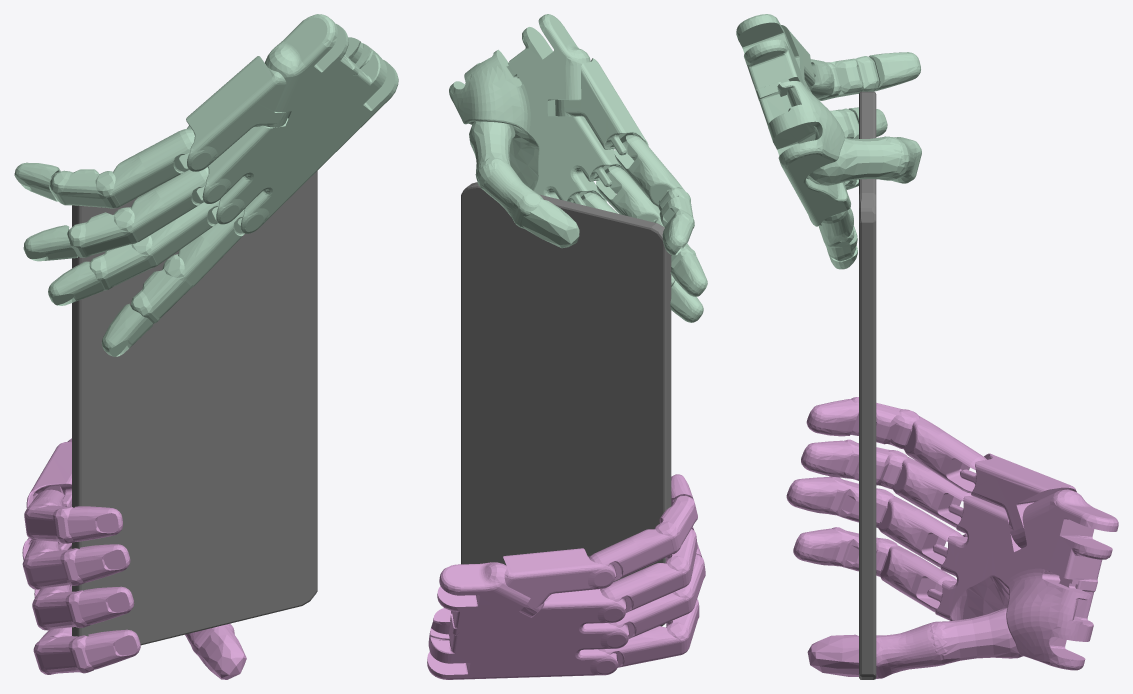
The model's file is Ipod.glb.
3 renders of one model, left to right at view 1: azimuth 30°, elevation 25°; view 2: azimuth 150°, elevation 25°; view 3: azimuth 270°, elevation 25°, orthographic. The views are drawn at different scales.
Parts seen in each view (by area): view 1: world; view 2: world; view 3: world.
Part boxes in pixels (x1,y1,x2,y2): world: (14, 14, 398, 679); world: (427, 14, 707, 679); world: (736, 14, 1118, 679).
Bounding box in the file's own units: 0.1966 × 0.3794 × 0.1906.
